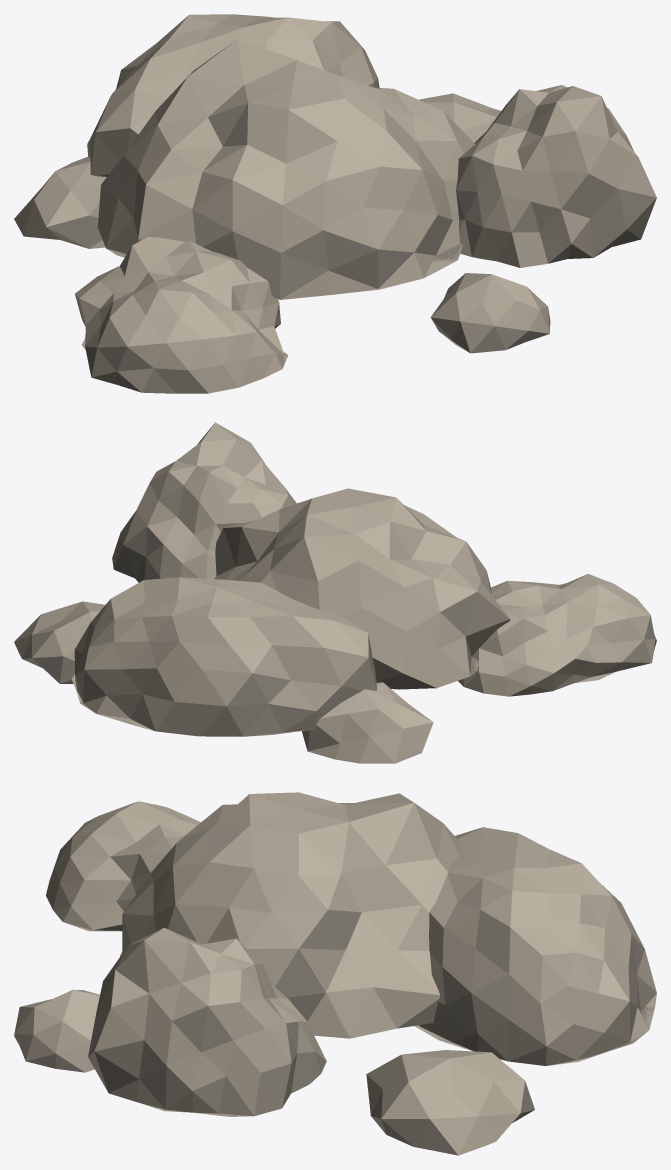
File: TERRAIN_03.obj
3 renders of one model, top to bottom at view 1: azimuth 30°, elevation 25°; view 2: azimuth 150°, elevation 25°; view 3: azimuth 270°, elevation 25°, orthographic. The views are drawn at different scales.
Parts seen in each view (by area): view 1: rock_1, rock_2, rock_3, rock_4, rock_7, rock_5, rock_6; view 2: rock_4, rock_1, rock_3, rock_2, rock_5, rock_6; view 3: rock_1, rock_4, rock_2, rock_6, rock_3, rock_7.
Boxes of the visible parts, x1,y1,x2,y2 form: rock_1: (97, 39, 474, 299); rock_2: (456, 85, 656, 267); rock_3: (75, 236, 288, 393); rock_4: (87, 14, 379, 176); rock_7: (430, 273, 550, 353); rock_5: (14, 156, 106, 248); rock_6: (419, 93, 500, 142); rock_4: (71, 577, 376, 736); rock_1: (214, 488, 510, 689); rock_3: (458, 574, 656, 696); rock_2: (112, 422, 296, 582); rock_5: (302, 682, 433, 763); rock_6: (14, 601, 105, 683); rock_1: (120, 792, 460, 1038); rock_4: (414, 827, 656, 1065); rock_2: (88, 927, 326, 1116); rock_6: (366, 1050, 534, 1155); rock_3: (46, 801, 200, 931); rock_7: (14, 989, 99, 1072).
Bounding box in the file's own units: 6.61 × 2 × 5.97.
